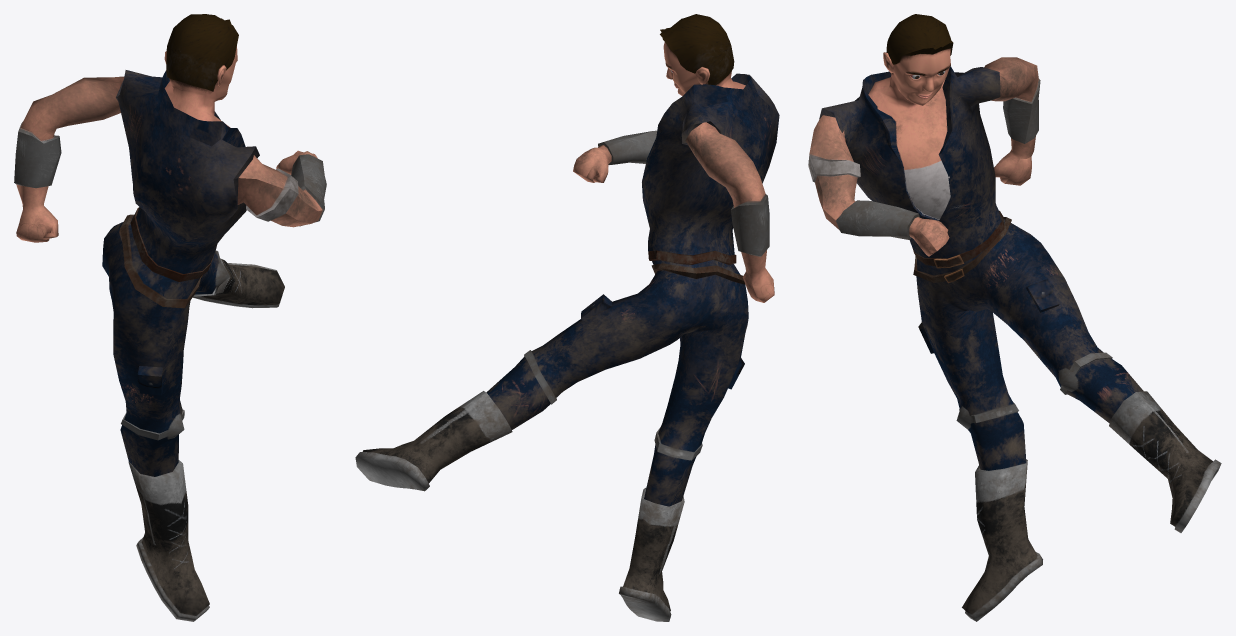
Rendered from Anim_ataque_f2_jugador.0028.obj.
3 renders of one model, left to right at view 1: azimuth 30°, elevation 25°; view 2: azimuth 150°, elevation 25°; view 3: azimuth 270°, elevation 25°, orthographic. The views are drawn at different scales.
Visible parts, largest first — view 1: polySurface1; view 2: polySurface1; view 3: polySurface1.
Part boxes in pixels (<box>): polySurface1: <box>14,14,326,621</box>; polySurface1: <box>355,14,779,621</box>; polySurface1: <box>808,14,1221,621</box>.
Size of the model in its own units: 5.97 by 10.08 by 6.38.
